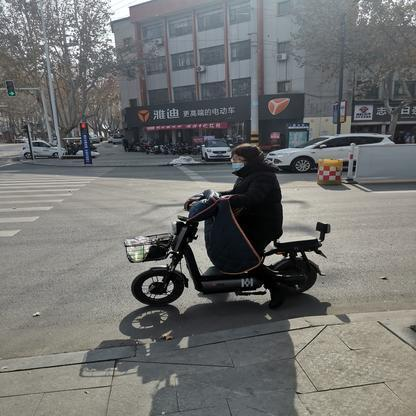target: (123, 139, 332, 307)
